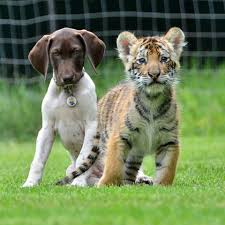dog: (26, 25, 104, 186)
tiger: (98, 29, 186, 186)
